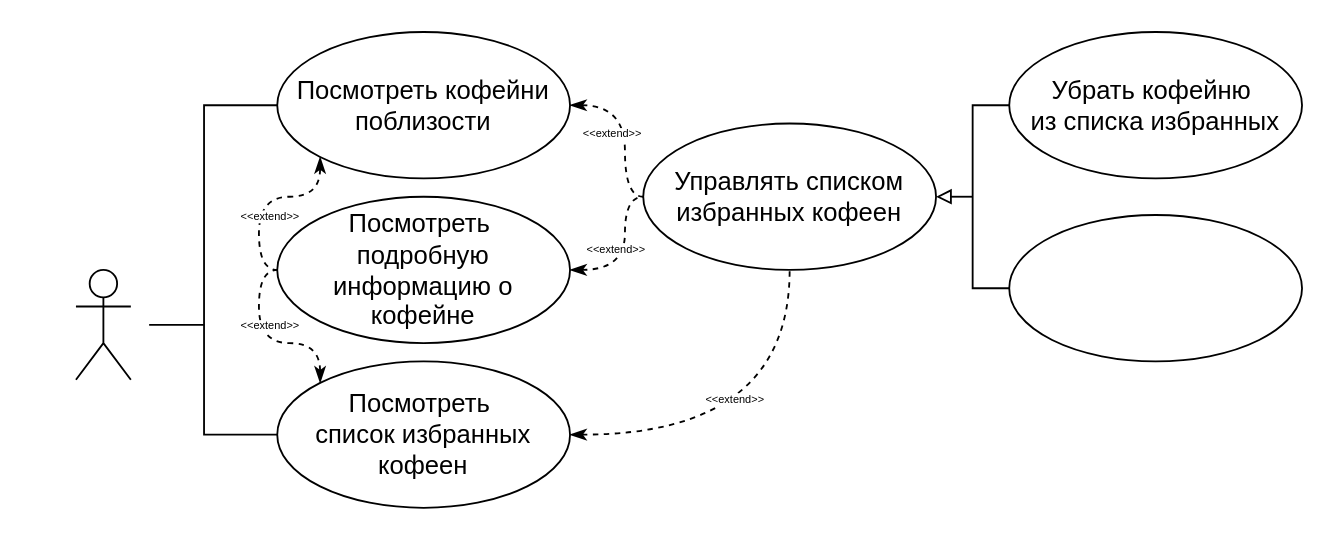
Some shapes in this 1334 by 540 pixel diagram are drawn without their labels. The centre of each missing label's shape, as x and y in pixels:
"Добавить кофейню в список избранных" belongs at pixel 1154 287.
"Пользователь" belongs at pixel 102 324.
